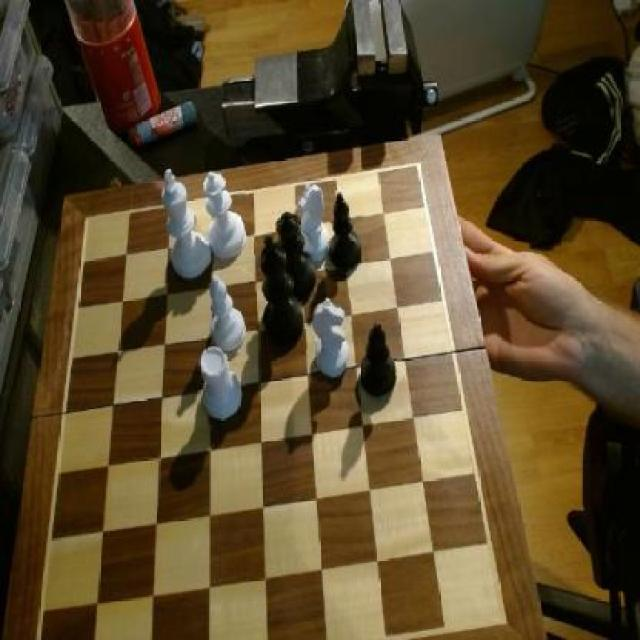bishop: (324, 188, 364, 272), (360, 322, 398, 404)
black-bishop: (256, 232, 310, 350)
black-pawn: (277, 211, 316, 299)
black-rook: (206, 274, 249, 354)
white-bishop: (160, 166, 208, 284)
white-king: (310, 298, 352, 382), (297, 184, 332, 266)
white-pawn: (205, 169, 248, 263)
white-queen: (196, 346, 246, 429)
